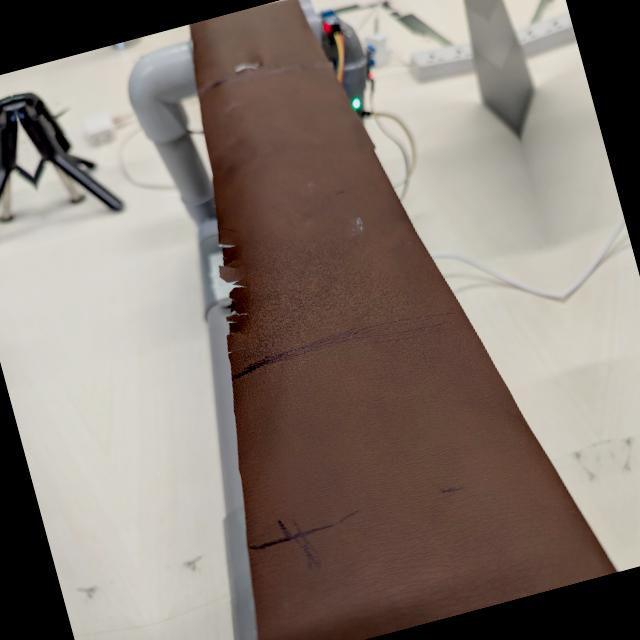edge_damage: (196, 222, 267, 363)
joint_damage: (214, 44, 277, 95)
